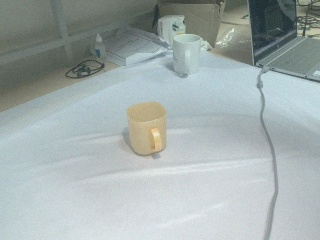bottle: (93, 34, 108, 65)
cup: (125, 101, 169, 156), (172, 33, 202, 77)
